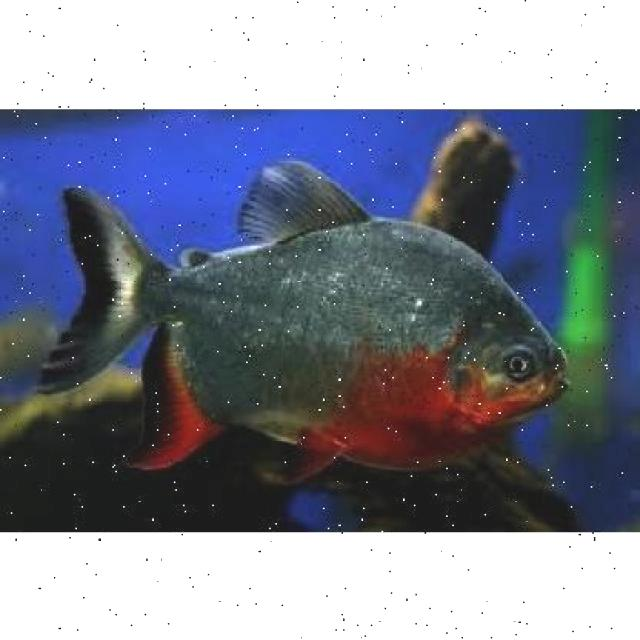ikan-pacu: (51, 179, 574, 476)
